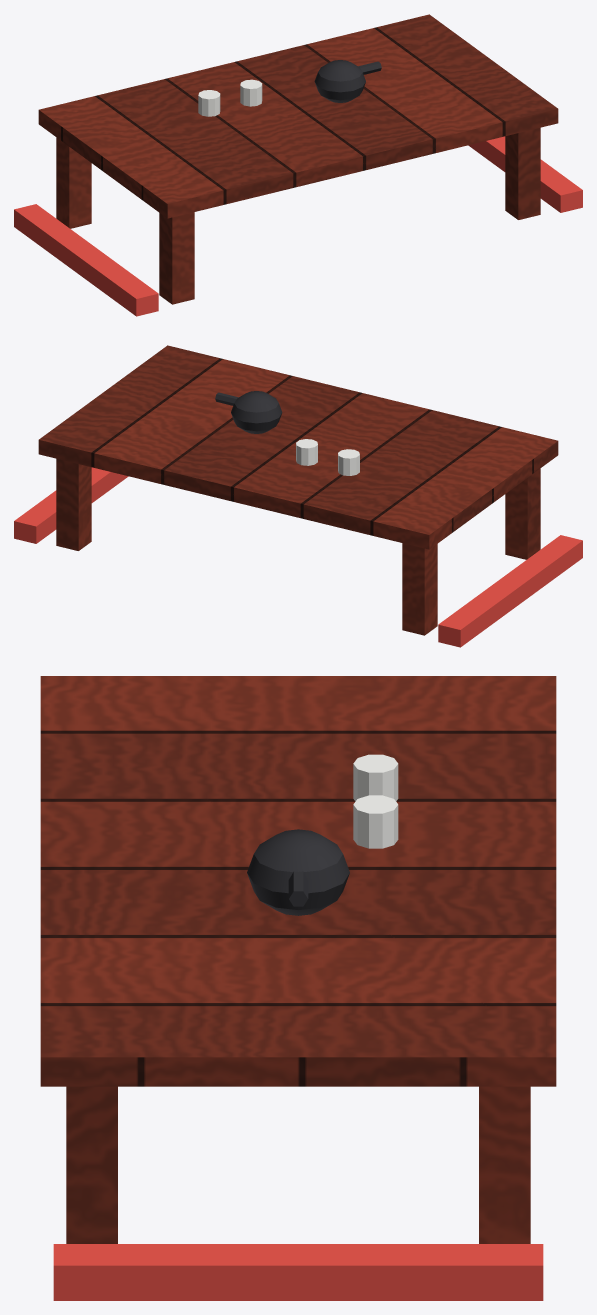
Rendered from Table_Japanese.fbx.
The picture shows the model from 3 angles, top to bottom: view 1: azimuth 30°, elevation 25°; view 2: azimuth 150°, elevation 25°; view 3: azimuth 270°, elevation 25°; orthographic projection. The views are drawn at different scales.
Parts seen in each view (by area): view 1: Table_Japanese; view 2: Table_Japanese; view 3: Table_Japanese.
Part boxes in pixels (x1=…): Table_Japanese: x1=14, y1=14, x2=582, y2=316; Table_Japanese: x1=14, y1=345, x2=582, y2=647; Table_Japanese: x1=40, y1=676, x2=556, y2=1300.
Bounding box in the file's own units: 1.6 × 0.494 × 0.8.
Materials: 4 (1 with a texture image).
